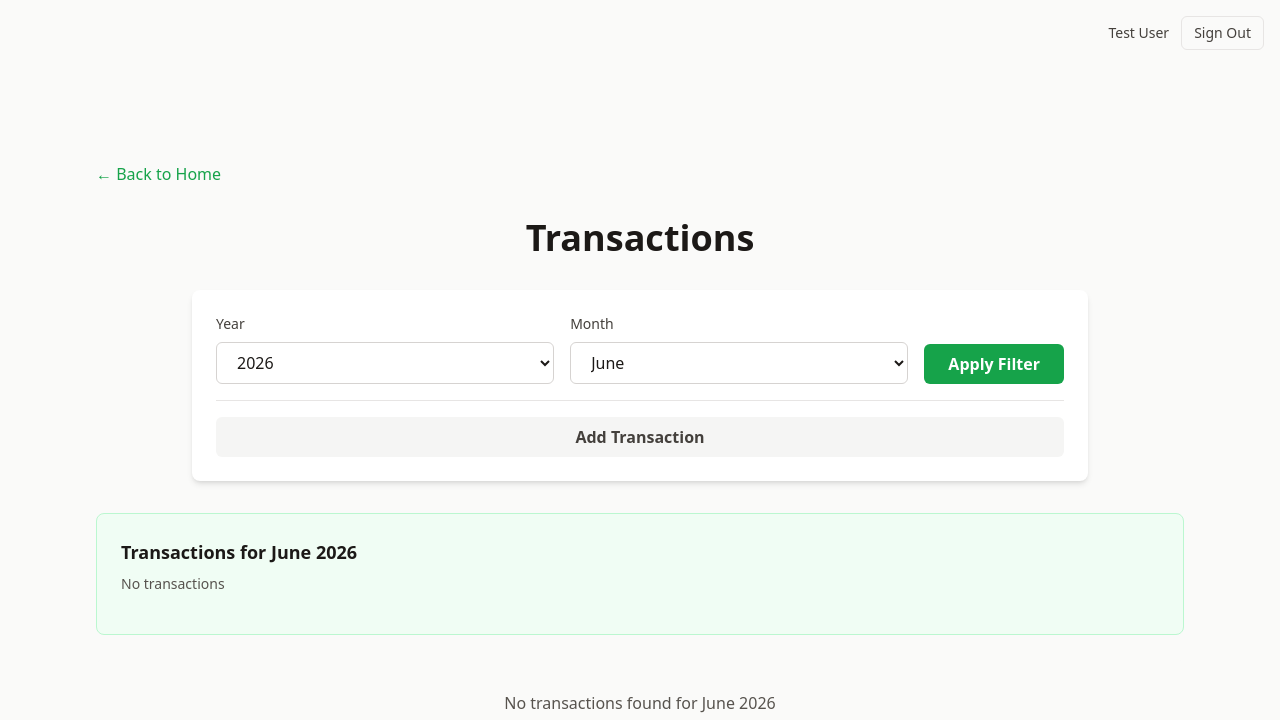
Test case: Transactions Page › with a refund transaction › displays refund as -£X.XX and reduces the amount owed
This screenshot has width=1280, height=720.
Select "2026" in the dropdown with id "year": (385, 363) x1=216 y1=342 x2=554 y2=384
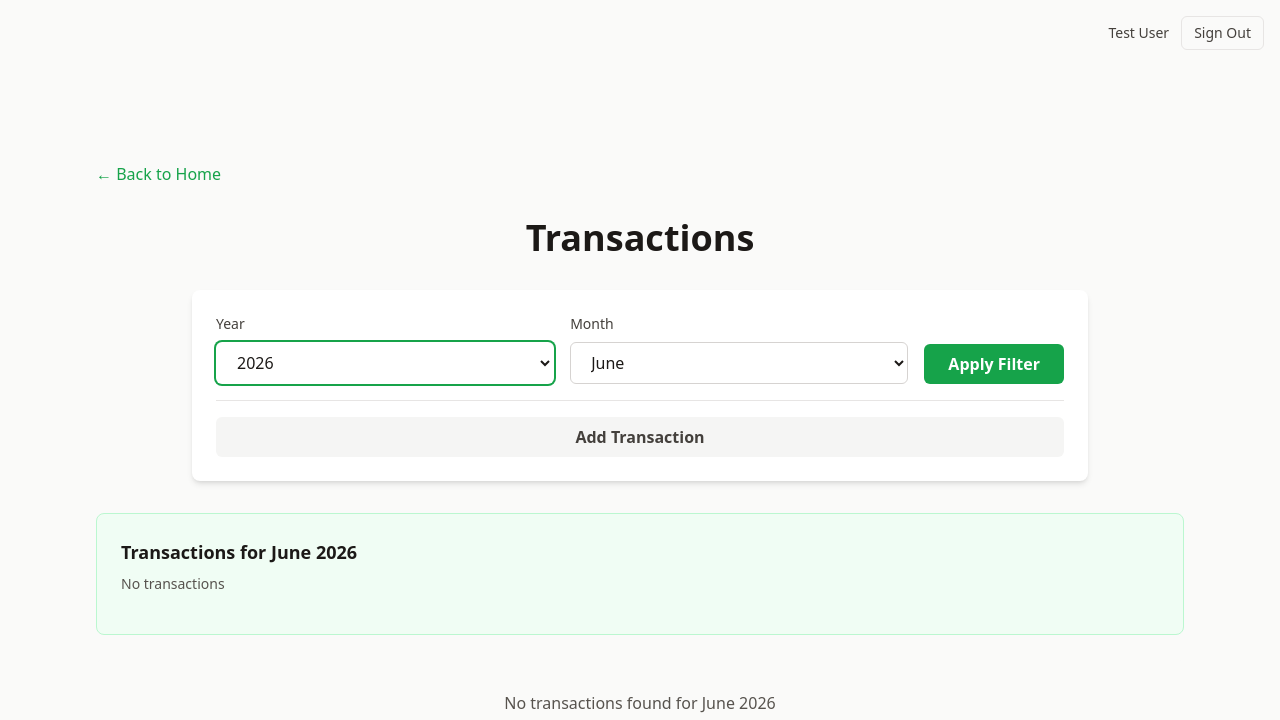
Select "February" in the dropdown with id "month": (739, 363) x1=570 y1=342 x2=908 y2=384
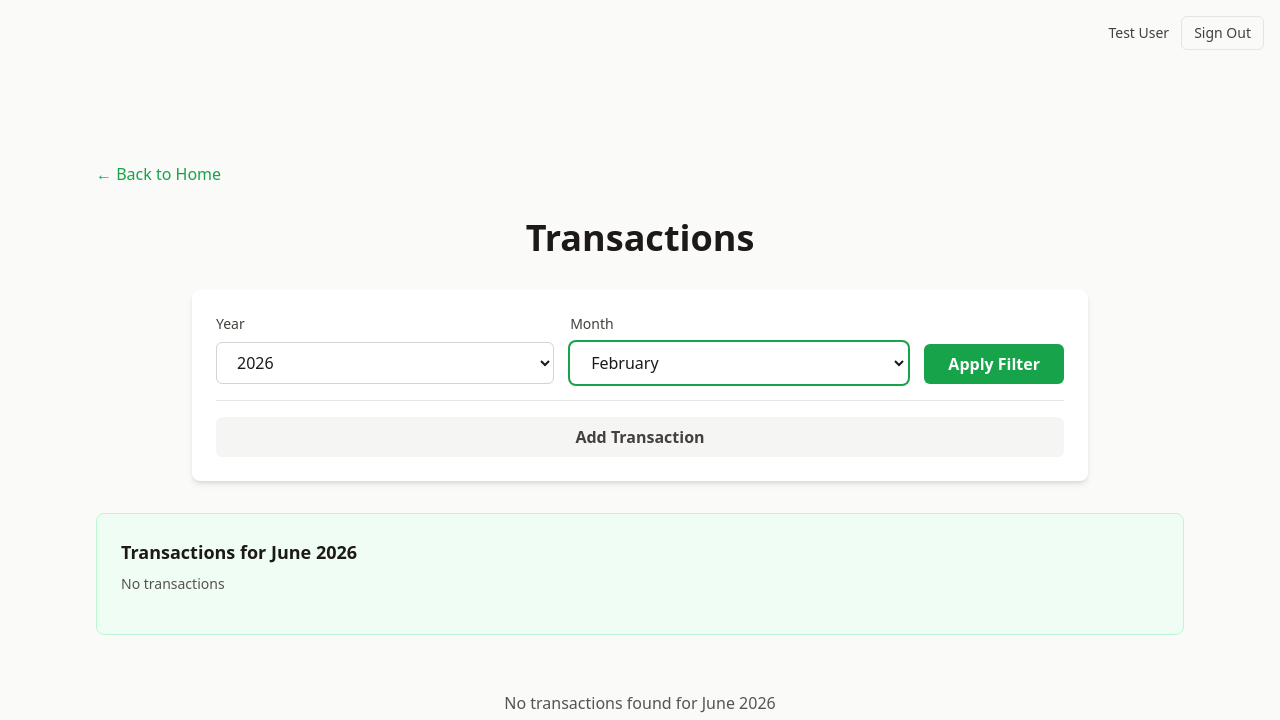
Click the button "Apply Filter": (994, 364) x1=924 y1=344 x2=1064 y2=384
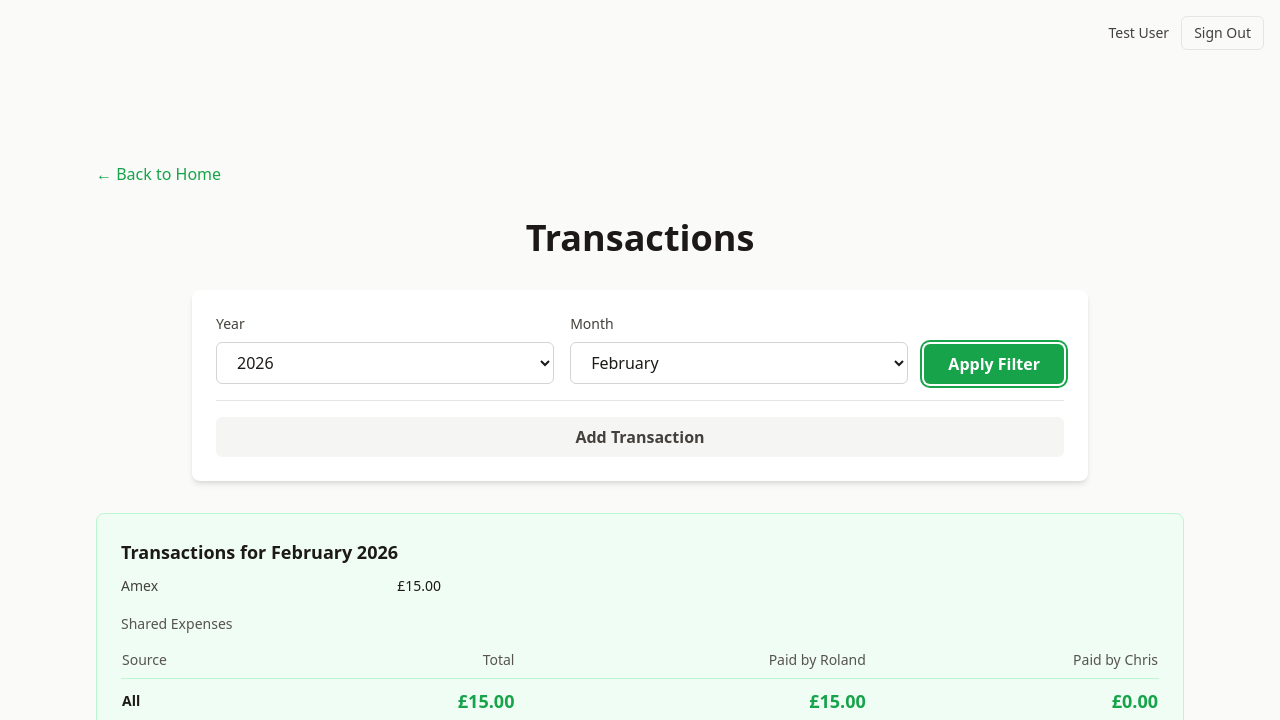
Expected: the list item "Amex" shows "£15.00", x1=121 y1=576 x2=158 y2=595
